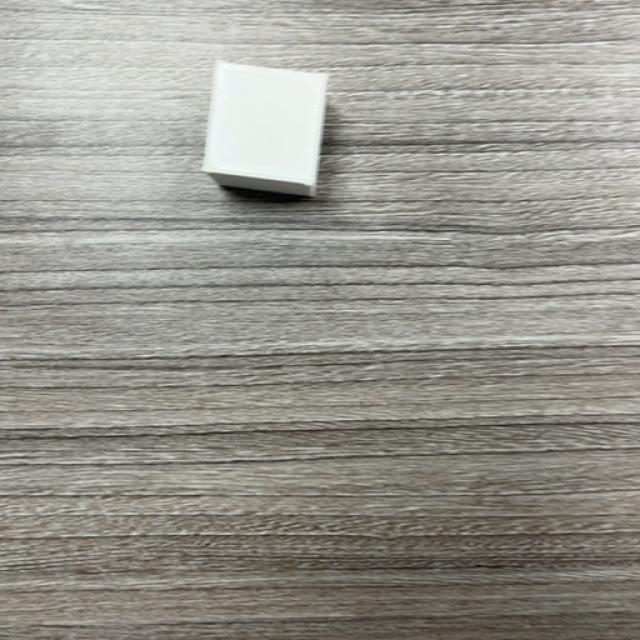Blanco: (201, 61, 328, 199)
